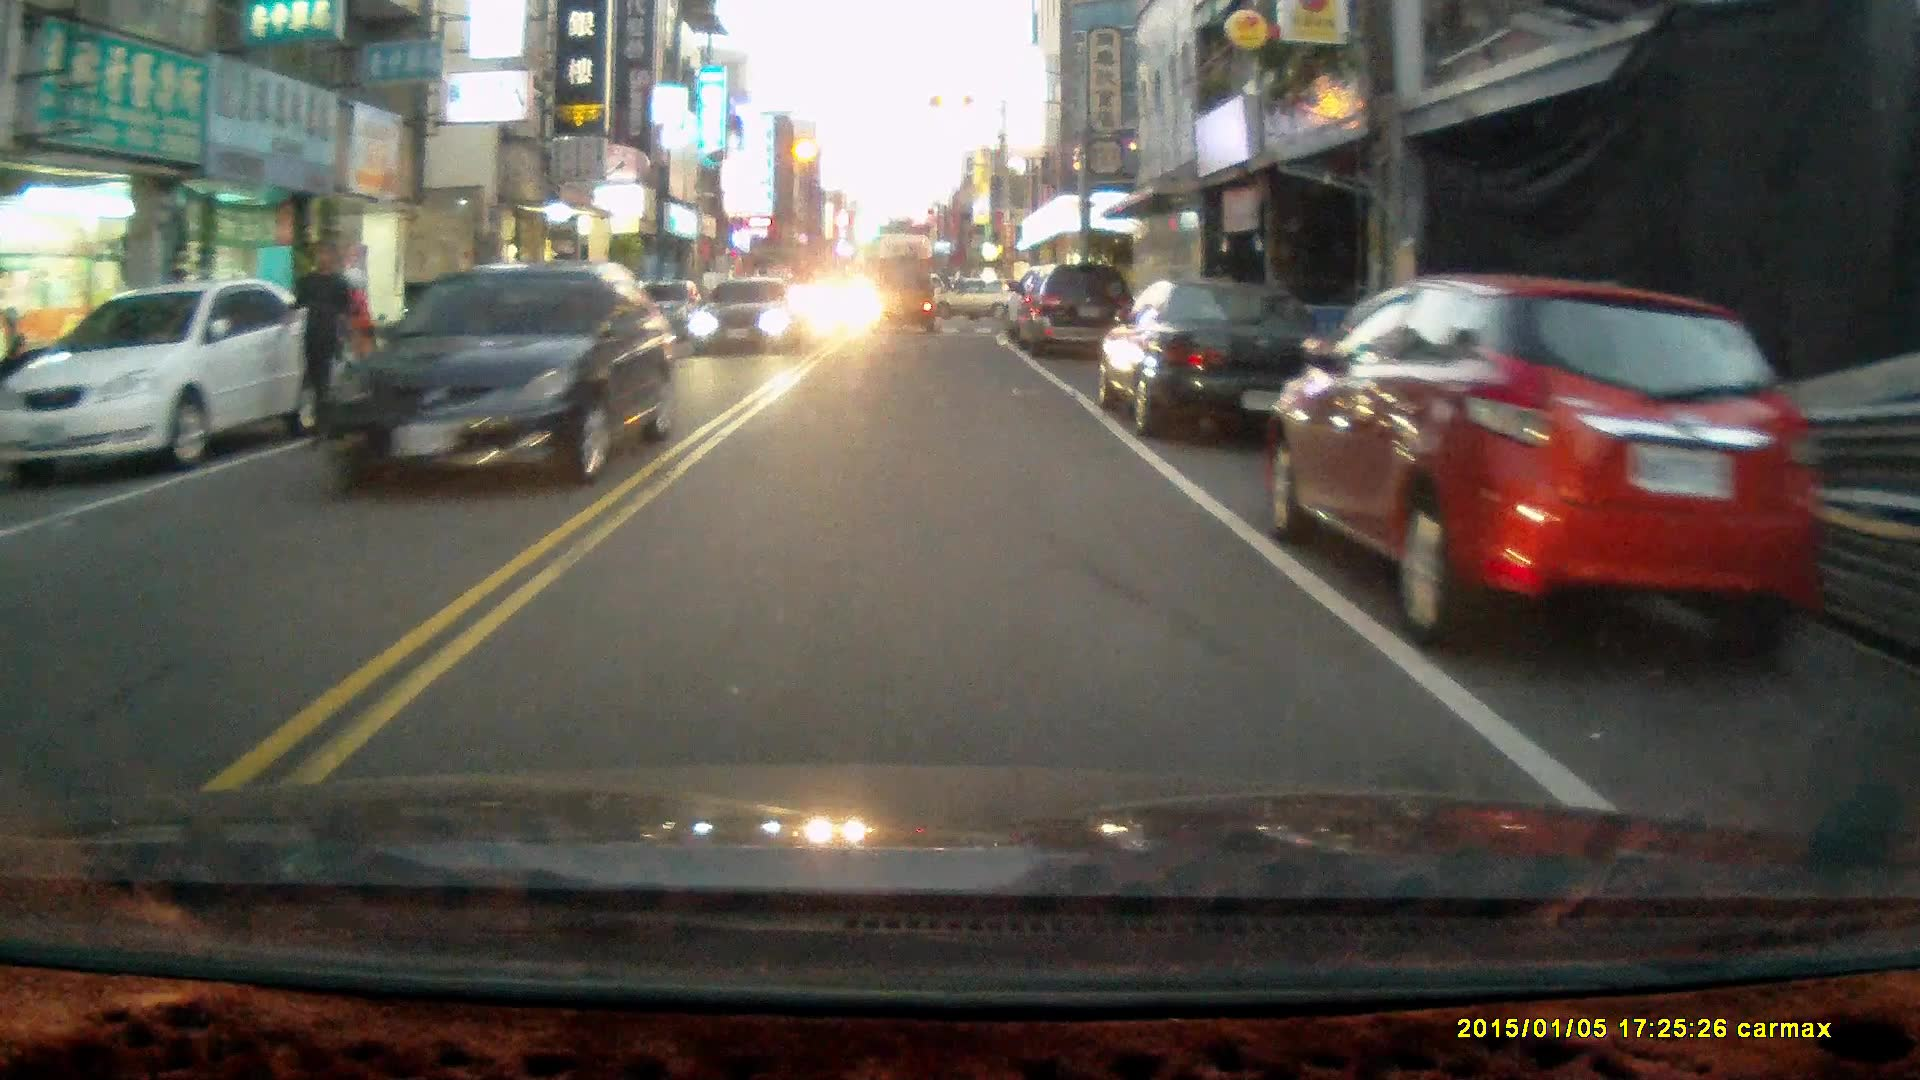pedestrian: (277, 238, 360, 441)
vehicle: (1268, 272, 1842, 667), (323, 265, 679, 496), (9, 279, 333, 487), (1096, 281, 1344, 444), (1010, 267, 1141, 365), (695, 284, 799, 364), (869, 260, 940, 342)
